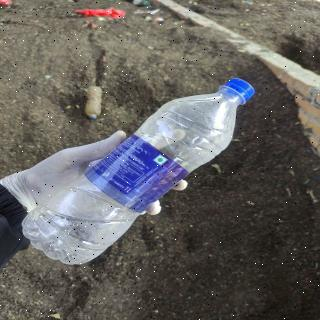Plastic-bottle: (21, 77, 258, 269)
